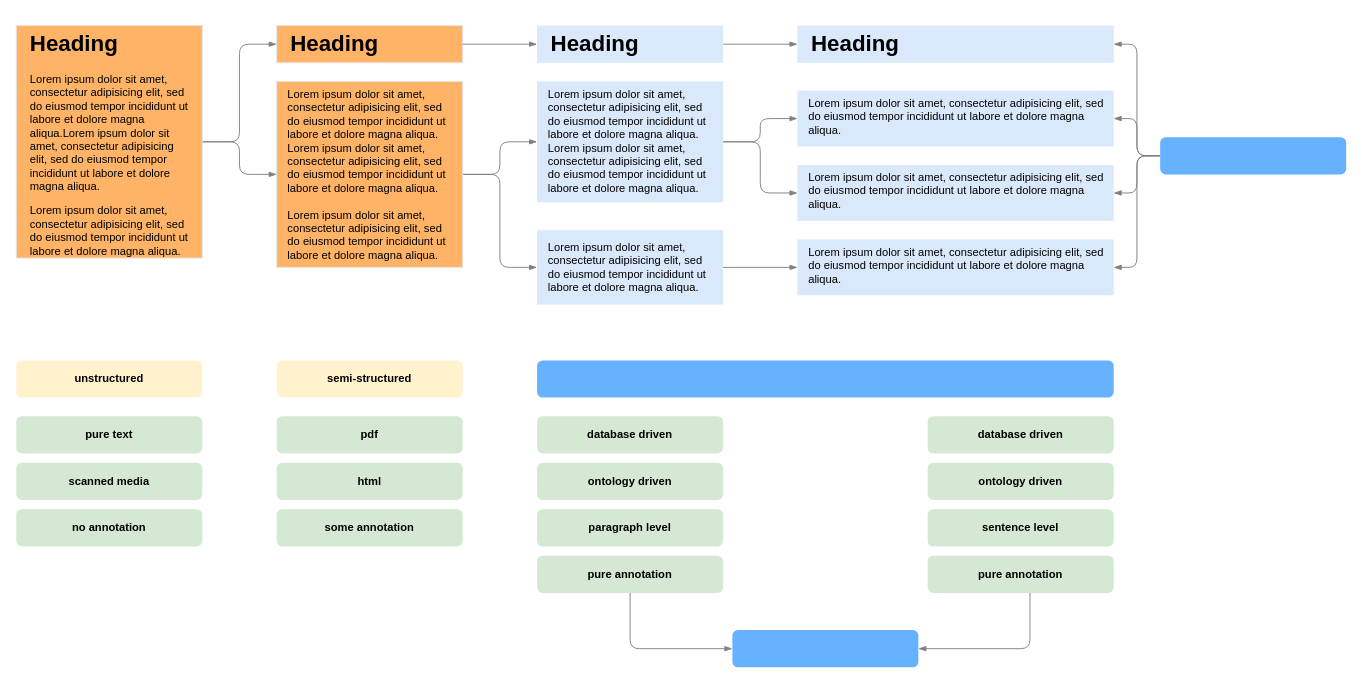
Some shapes in this 1362 by 683 pixel diagram are drawn without their labels. The shapes that lost their labels are listed below. From the top down, each one's box as (x1, y1, x2, y2) in pixels, then its label:
(1160, 137, 1346, 174): Event(s)
(537, 360, 1113, 397): fully structured / event driven
(732, 630, 918, 667): Content artefacts
